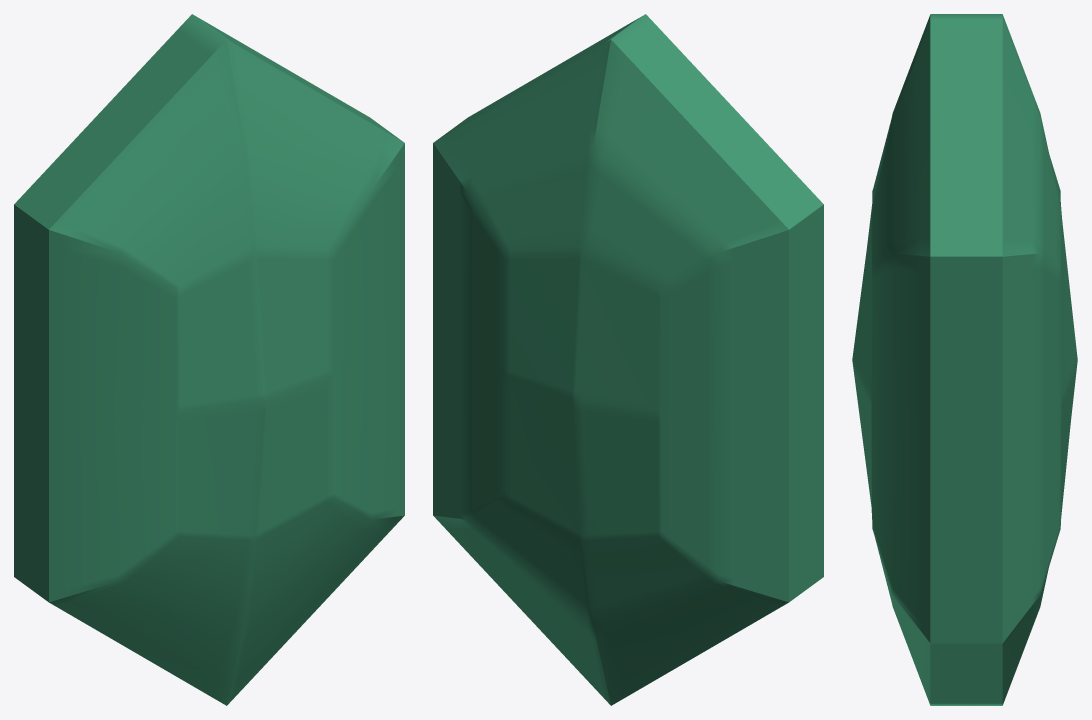
The model's file is gemGreen.glb.
3 views of the same model, side by side, from view 1: azimuth 30°, elevation 25°; view 2: azimuth 150°, elevation 25°; view 3: azimuth 270°, elevation 25° (orthographic). The views are drawn at different scales.
Parts seen in each view (by area): view 1: pCube1; view 2: pCube1; view 3: pCube1.
Part boxes in pixels (left/top/right/bottom): pCube1: left=14, top=14, right=404, bottom=705; pCube1: left=433, top=14, right=823, bottom=705; pCube1: left=852, top=14, right=1077, bottom=705.
Bounding box in the file's own units: 8.26 × 14.78 × 4.37.
Materials: 1 (1 with a texture image).
